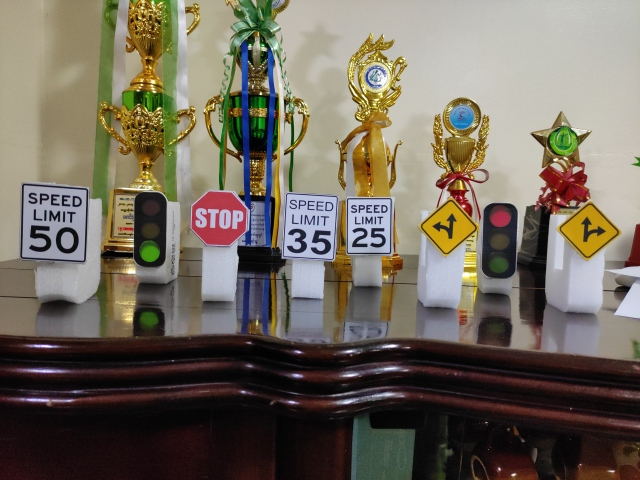Green Traffic Light: (133, 191, 167, 267)
Red Traffic Light: (482, 203, 517, 279)
Speed Limit 25: (345, 195, 394, 256)
Speed Limit 35: (284, 192, 337, 260)
Speed Limit 50: (19, 182, 88, 263)
Stop Sign: (191, 190, 250, 247)
Straight Or Left Sign: (419, 197, 478, 257)
Straight Or Right Sign: (556, 201, 622, 258)
